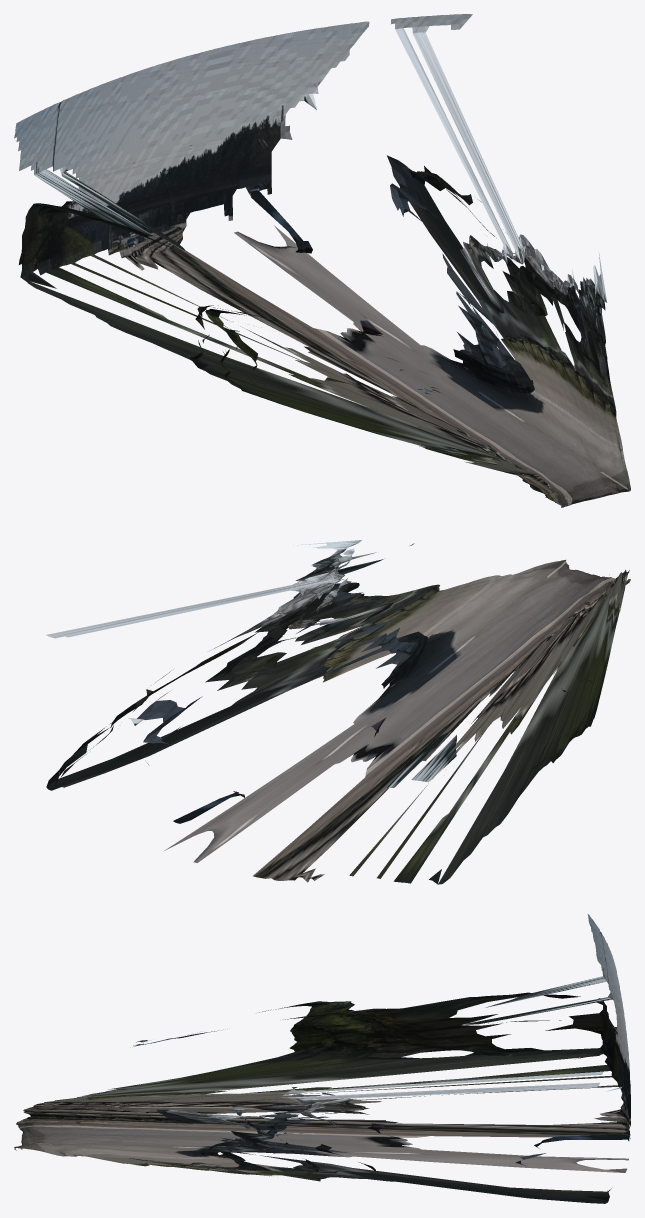
3 renders of one model, top to bottom at view 1: azimuth 30°, elevation 25°; view 2: azimuth 150°, elevation 25°; view 3: azimuth 270°, elevation 25°, orthographic. The views are drawn at different scales.
Parts seen in each view (by area): view 1: defaultobject; view 2: defaultobject; view 3: defaultobject.
Part boxes in pixels (bbox=[...]): defaultobject: bbox=[14, 14, 630, 507]; defaultobject: bbox=[46, 540, 630, 884]; defaultobject: bbox=[14, 914, 630, 1203].
Size of the model in its own units: 30.61 by 12.47 by 44.75.
Materials: 1 (1 with a texture image).
